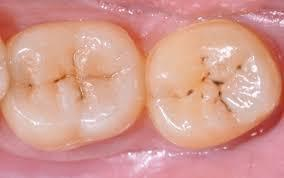Caries: (186, 53, 245, 116), (53, 50, 115, 100), (25, 77, 36, 95)
